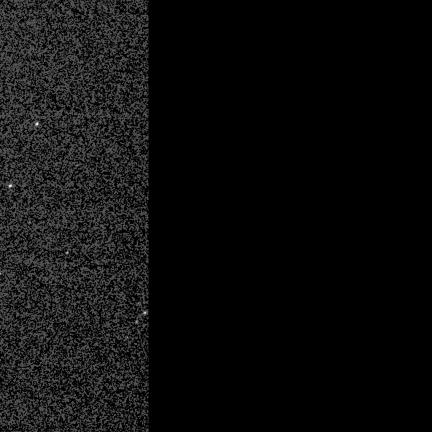blob: (9, 184, 13, 188), (36, 122, 39, 126), (66, 252, 70, 255)
